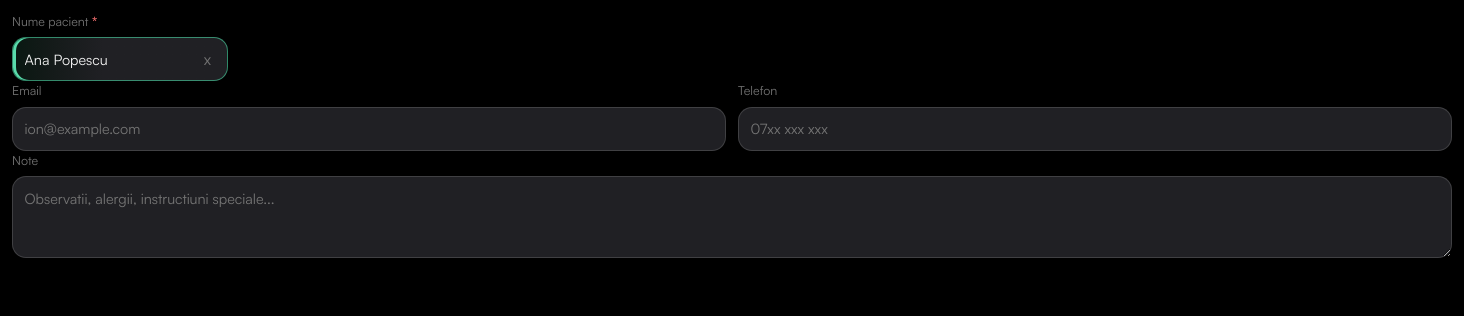
Test: ClientSection › re-focuses the input and reopens suggestions after clearing a linked client
The image size is (1464, 316).
Click the button named "Șterge pacientul selectat": (207, 59) x1=193 y1=45 x2=221 y2=73
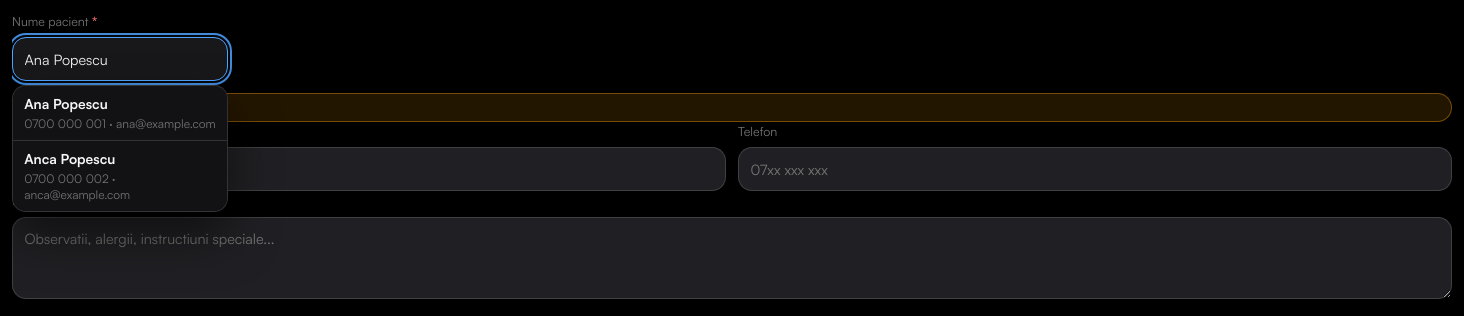
expect the list is shown: met, box x1=12 y1=86 x2=228 y2=212
